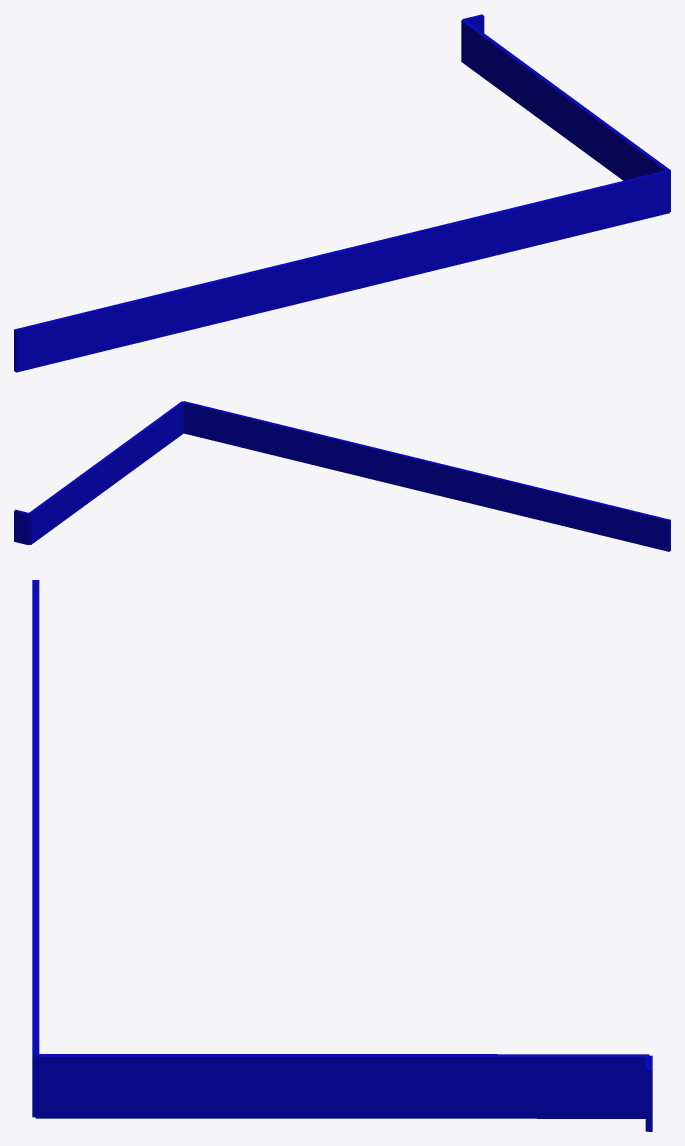
The model's file is three_dof_planar_manipulator.dae.
3 renders of one model, top to bottom at view 1: azimuth 30°, elevation 25°; view 2: azimuth 150°, elevation 25°; view 3: azimuth 270°, elevation 25°, orthographic. The views are drawn at different scales.
Visible parts, largest first — view 1: dummy1, link1, dummy2, link2; view 2: dummy1, link1, dummy2, link2, link3; view 3: dummy2, link2, dummy1, link1.
Part boxes in pixels (bbox=[...]): dummy1: bbox=[212, 170, 669, 324]; link1: bbox=[14, 281, 214, 372]; dummy2: bbox=[461, 19, 613, 170]; link2: bbox=[610, 128, 670, 211]; dummy1: bbox=[182, 401, 522, 515]; link1: bbox=[521, 484, 670, 551]; dummy2: bbox=[29, 432, 141, 544]; link2: bbox=[139, 401, 183, 463]; link3: bbox=[14, 509, 29, 545]; dummy2: bbox=[206, 1054, 649, 1118]; link2: bbox=[35, 1054, 206, 1118]; dummy1: bbox=[32, 724, 39, 1117]; link1: bbox=[32, 580, 39, 724].
Bounding box in the file's own units: 0.1701 × 0.091 × 0.01.
